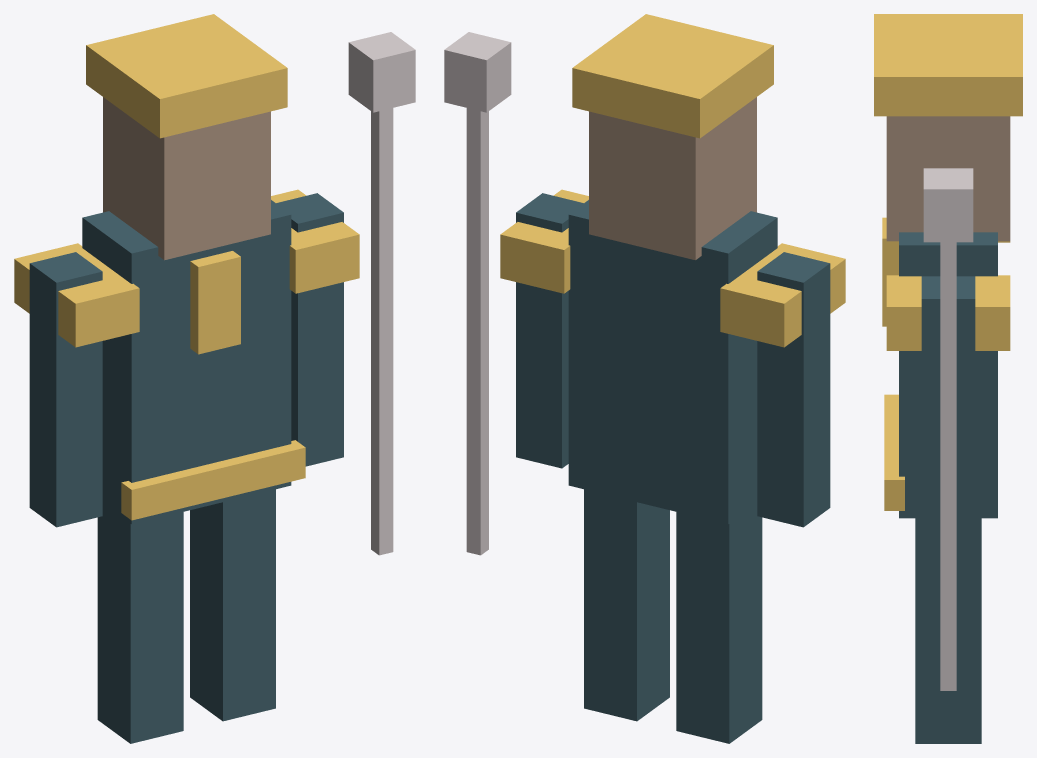
Rendered from 19_yara_stormhush_oracle_of.glb.
The picture shows the model from 3 angles, left to right: view 1: azimuth 30°, elevation 25°; view 2: azimuth 150°, elevation 25°; view 3: azimuth 270°, elevation 25°; orthographic projection.
Parts seen in each view (by area): view 1: Yara Stormhush, Oracle of; view 2: Yara Stormhush, Oracle of; view 3: Yara Stormhush, Oracle of.
Boxes of the visible parts, x1,y1,x2,y2 form: Yara Stormhush, Oracle of: (14,14,415,743); Yara Stormhush, Oracle of: (444,14,845,743); Yara Stormhush, Oracle of: (874,14,1022,743).
Size of the model in its own units: 0.9701 by 1.69 by 0.3441.
